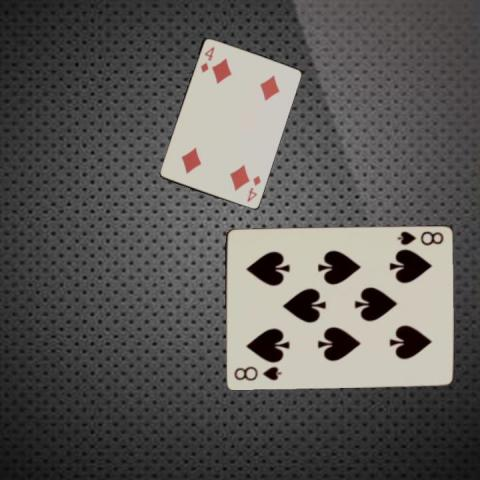4d: (244, 173, 263, 204), (198, 44, 216, 74)
8s: (230, 364, 283, 383), (394, 228, 445, 247)
